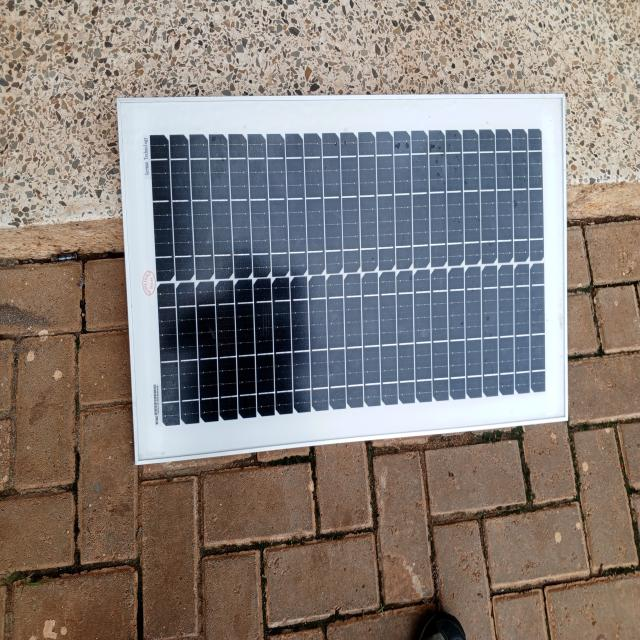Clean: (149, 127, 561, 422)
